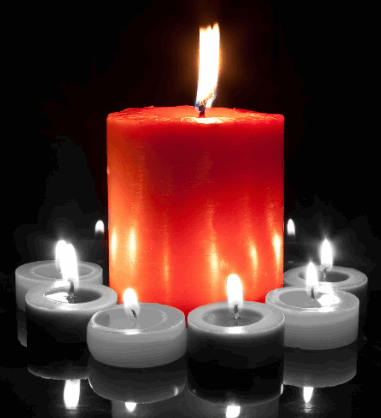Fire: (190, 17, 236, 113), (219, 269, 257, 321), (121, 285, 153, 326)
